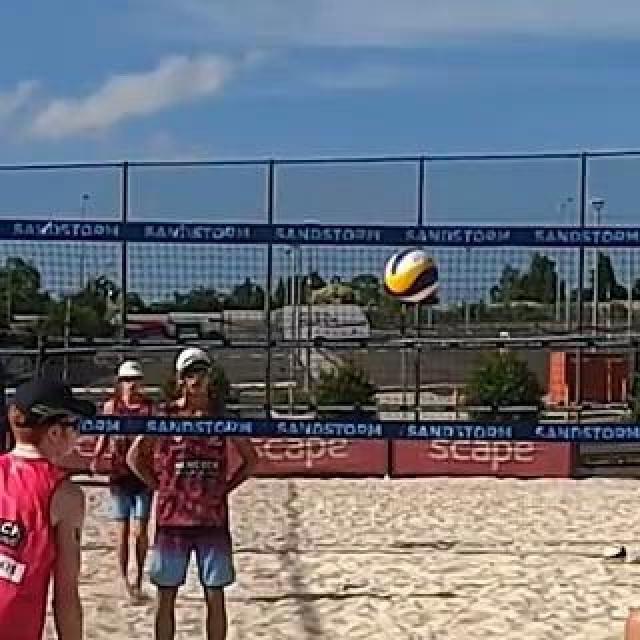volleyball: (384, 250, 436, 302), (604, 544, 626, 568)
